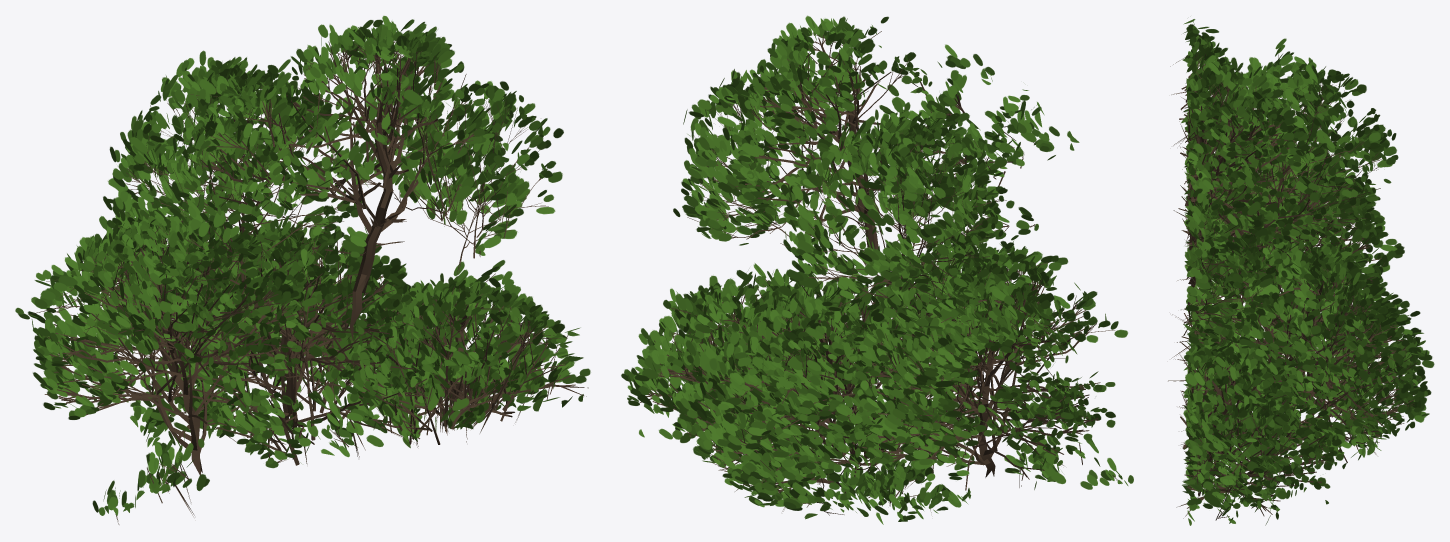
The picture shows the model from 3 angles, left to right: view 1: azimuth 30°, elevation 25°; view 2: azimuth 150°, elevation 25°; view 3: azimuth 270°, elevation 25°; orthographic projection. The views are drawn at different scales.
Visible parts, largest first — view 1: oak 01.001_trunk_Mat.001_0.172; view 2: oak 01.001_trunk_Mat.001_0.172; view 3: oak 01.001_trunk_Mat.001_0.172.
Boxes of the visible parts, box(x1,y1,x2,y2) form: oak 01.001_trunk_Mat.001_0.172: box(15, 15, 590, 524); oak 01.001_trunk_Mat.001_0.172: box(621, 15, 1133, 524); oak 01.001_trunk_Mat.001_0.172: box(1168, 19, 1434, 525).
Bounding box in the file's own units: 4.87 × 4.12 × 2.5.
2 materials, 1 textured.
